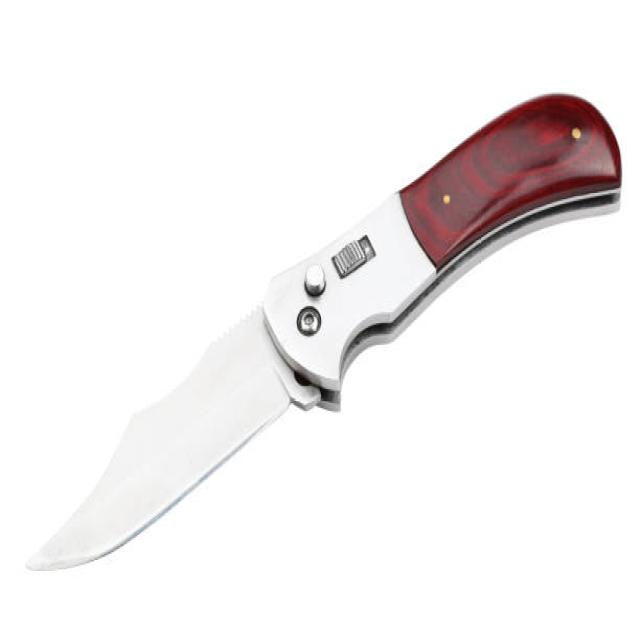knife: (22, 67, 627, 580)
